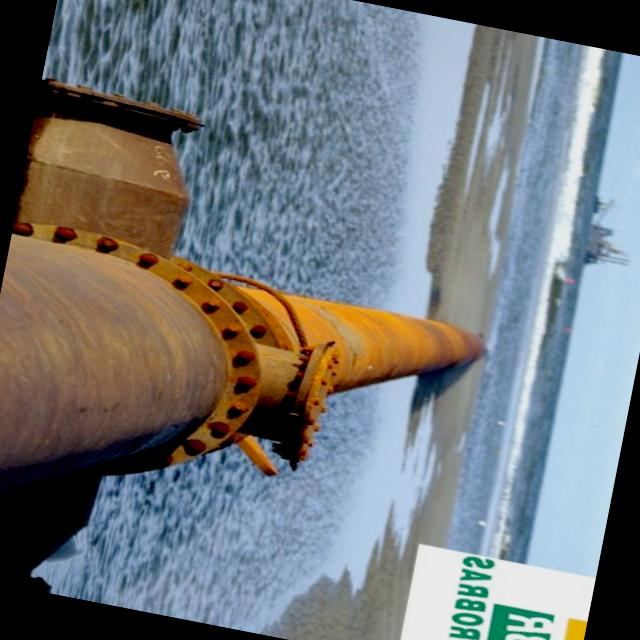gas: (0, 232, 488, 479)
